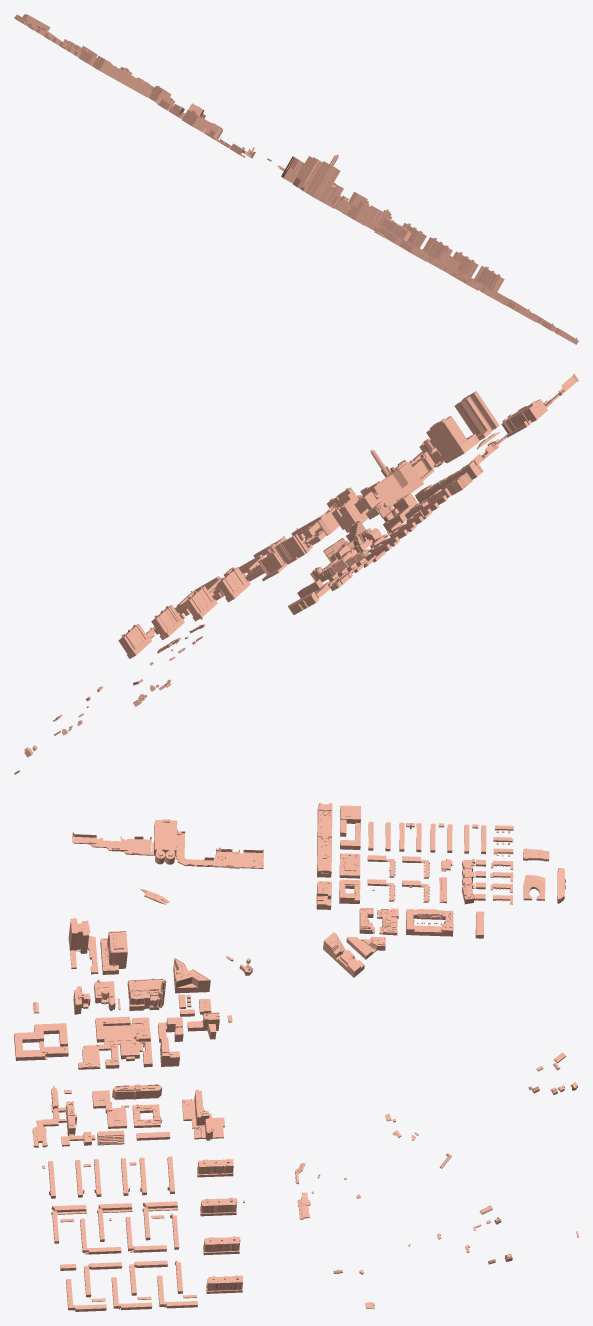
3 views of the same model, one above another, from view 1: azimuth 30°, elevation 25°; view 2: azimuth 150°, elevation 25°; view 3: azimuth 270°, elevation 25° (orthographic). The views are drawn at different scales.
Bounding box in the file's own units: 3.33e+07 × 2.55e+07 × 4.04e+07.
